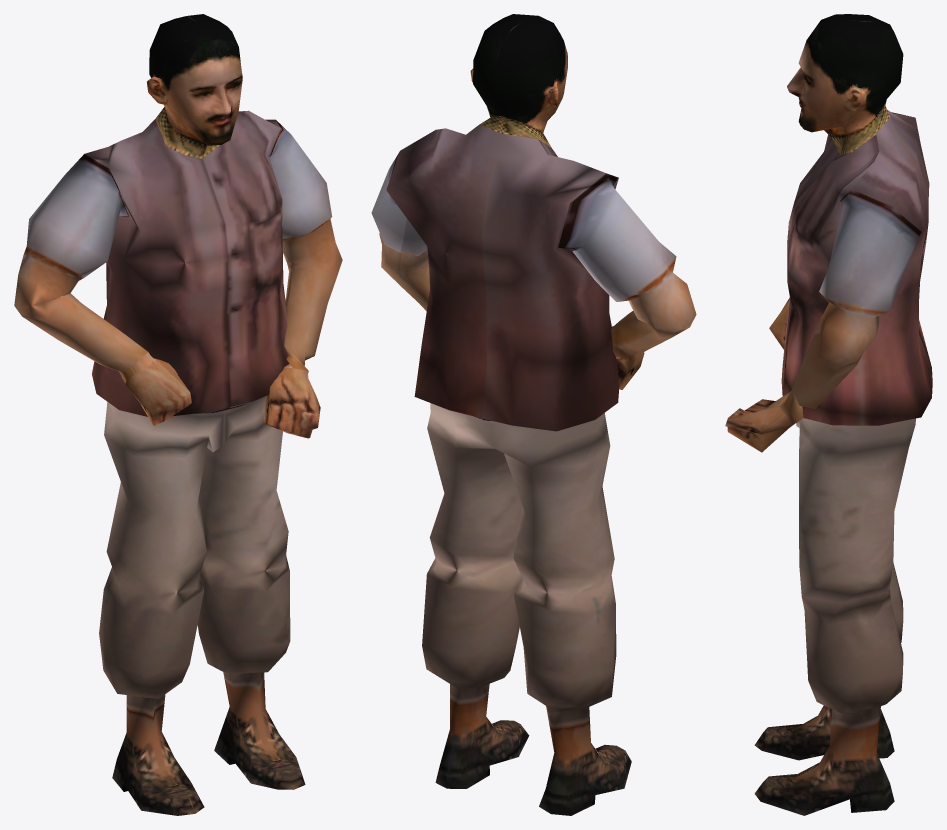
File: GOATHERDER.glb
3 views of the same model, side by side, from view 1: azimuth 30°, elevation 25°; view 2: azimuth 150°, elevation 25°; view 3: azimuth 270°, elevation 25° (orthographic).
Visible parts, largest first — view 1: NEWSKIN; view 2: NEWSKIN; view 3: NEWSKIN.
Part boxes in pixels (bbox=[...]): NEWSKIN: bbox=[14, 14, 342, 815]; NEWSKIN: bbox=[371, 14, 696, 815]; NEWSKIN: bbox=[725, 14, 932, 815].
Size of the model in its own units: 0.7649 by 1.76 by 0.4382.
Materials: 1 (1 with a texture image).
